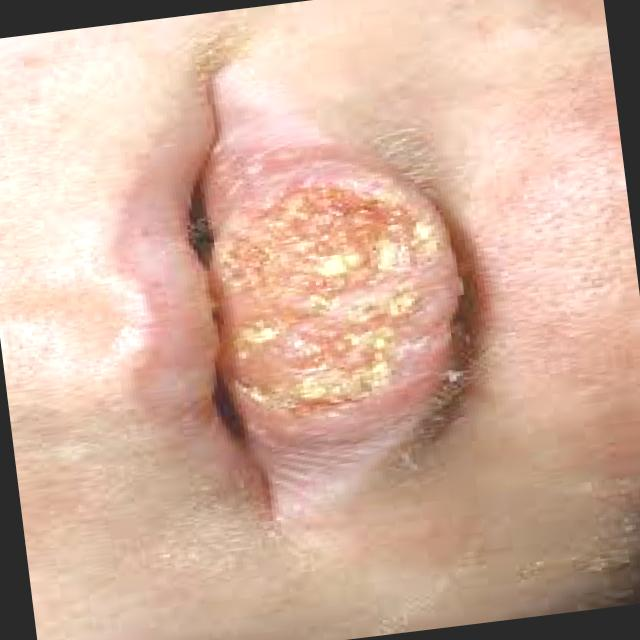Cancer: (213, 176, 428, 406)
